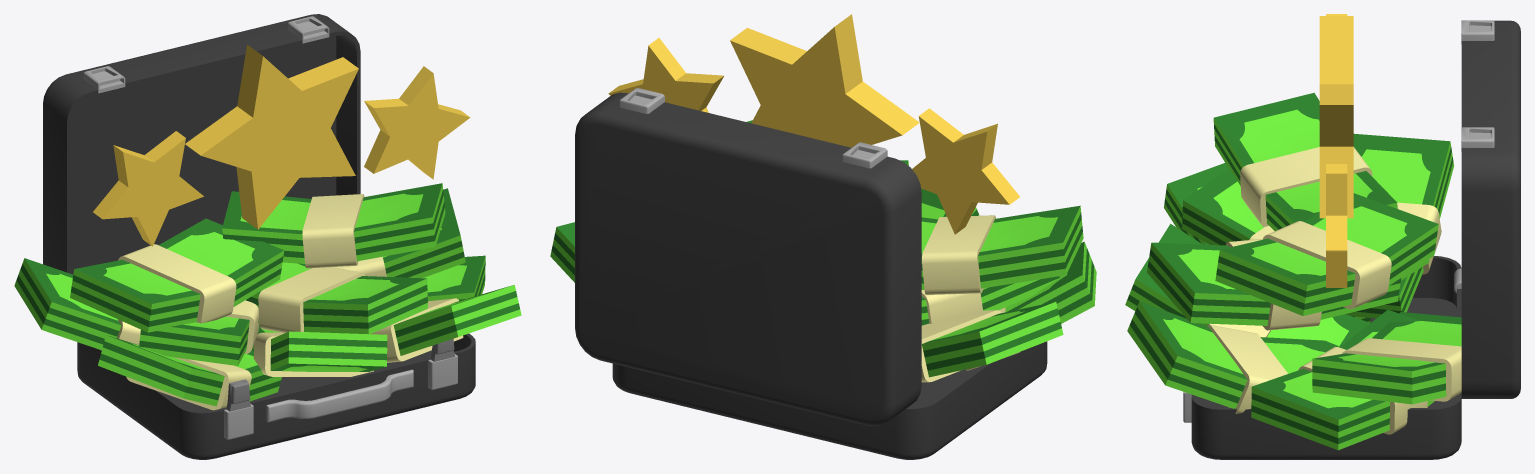
File: paraCanta.fbx
3 views of the same model, side by side, from view 1: azimuth 30°, elevation 25°; view 2: azimuth 150°, elevation 25°; view 3: azimuth 270°, elevation 25° (orthographic). The views are drawn at different scales.
Parts seen in each view (by area): view 1: ustkapak, altkapak, Star, para.002, para.005, para.009, para.003, Star.001, Star.003, para.004, para.006, para.001 (+3 smaller); view 2: ustkapak, altkapak, Star, para.002, Star.003, para.001, Star.001, para.008, para.003, para.010, para.004; view 3: ustkapak, para.005, altkapak, para.002, para.006, para.010, para.007, para.009, para.001, Star, para.008, para.004 (+2 smaller).
Boxes of the visible parts, x1,y1,x2,y2 form: ustkapak: (43, 14, 360, 274); altkapak: (77, 333, 475, 459); Star: (185, 44, 358, 229); para.002: (70, 218, 284, 332); para.005: (222, 183, 445, 268); para.009: (246, 262, 427, 334); para.003: (98, 335, 281, 410); Star.001: (364, 66, 470, 179); Star.003: (93, 131, 203, 246); para.004: (252, 325, 387, 376); para.006: (370, 285, 521, 362); para.001: (14, 258, 140, 350); ustkapak: (575, 88, 921, 426); altkapak: (612, 341, 1047, 459); Star: (730, 14, 919, 147); para.002: (921, 205, 1083, 294); Star.003: (912, 108, 1019, 234); para.001: (921, 301, 1063, 382); Star.001: (608, 38, 723, 112); para.008: (921, 276, 1059, 325); para.003: (966, 241, 1096, 370); para.010: (550, 222, 574, 282); para.004: (921, 188, 979, 219); ustkapak: (1454, 20, 1520, 398); para.005: (1215, 193, 1438, 315); altkapak: (1183, 256, 1461, 459); para.002: (1213, 92, 1397, 230); para.006: (1127, 301, 1338, 413); para.010: (1312, 312, 1461, 404); para.007: (1251, 310, 1434, 450); para.009: (1147, 239, 1401, 330); para.001: (1346, 133, 1453, 318); Star: (1319, 16, 1353, 218); para.008: (1182, 168, 1429, 280); para.004: (1125, 223, 1370, 347).
Bounding box in the file's own units: 300 × 219 × 217.
